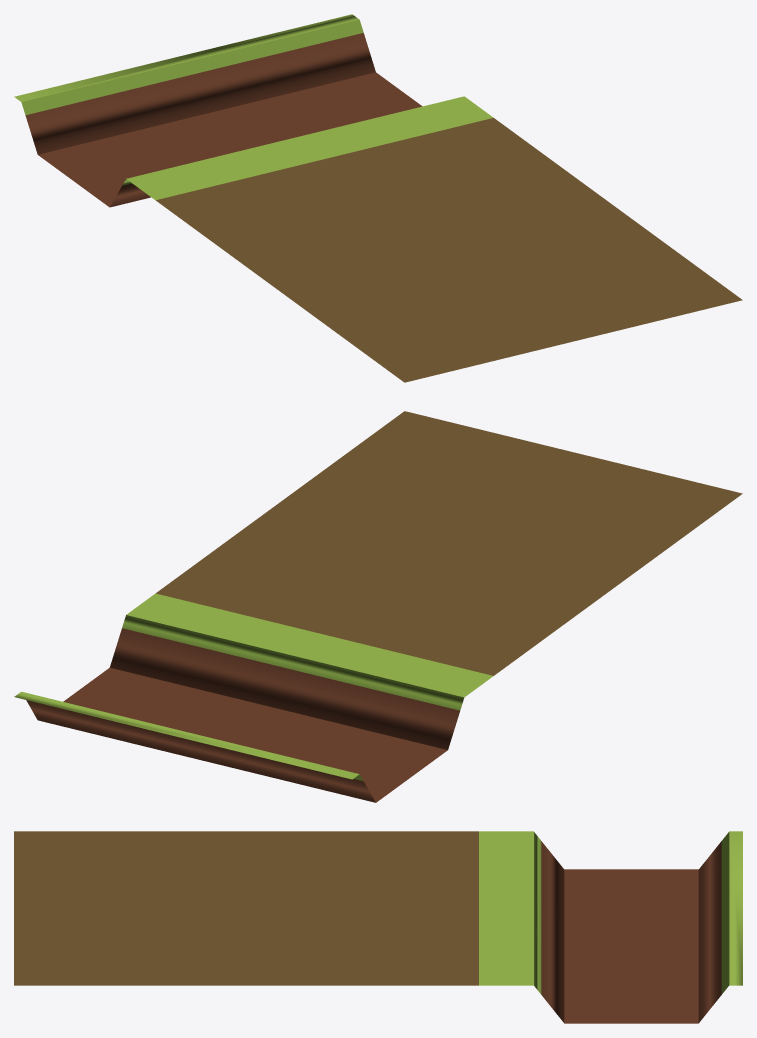
Rendered from road_Dirt_Straight.fbx.
3 views of the same model, one above another, from view 1: azimuth 30°, elevation 25°; view 2: azimuth 150°, elevation 25°; view 3: azimuth 270°, elevation 25° (orthographic). The views are drawn at different scales.
Parts seen in each view (by area): view 1: road_Dirt_Straight; view 2: road_Dirt_Straight; view 3: road_Dirt_Straight.
Boxes of the visible parts, x1,y1,x2,y2 form: road_Dirt_Straight: (14,14,742,382); road_Dirt_Straight: (14,411,742,802); road_Dirt_Straight: (14,831,742,1023).
Bounding box in the file's own units: 5 × 0.5748 × 10.
1 material, 1 textured.
